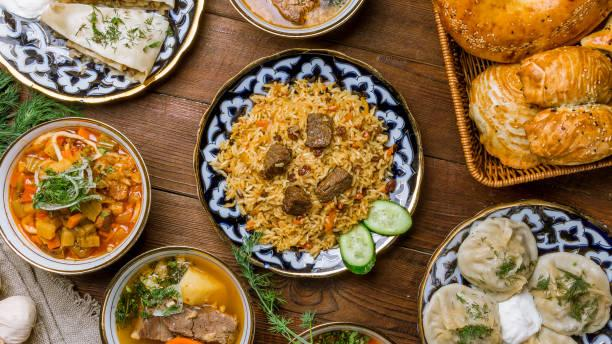Braised Crucian Carp: (190, 43, 418, 283), (431, 3, 610, 189), (416, 197, 609, 343), (2, 115, 150, 273), (2, 0, 199, 104), (101, 241, 254, 344)
